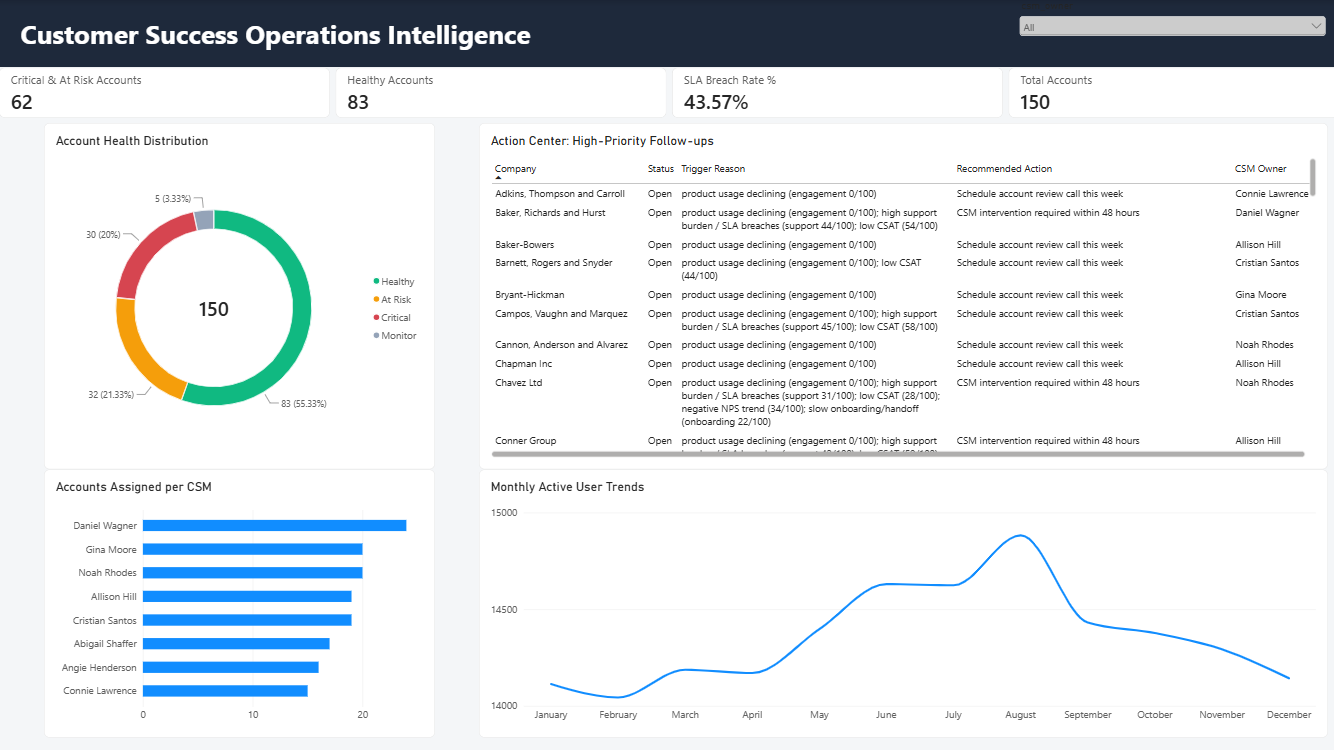

The dashboard page shown, as its layout file describes it:
{"tool":"powerbi","page":{"name":"CS_Dashboard","canvas":[1920,1080],"ordinal":0},"visuals":[{"type":"shape","box":[0,0,1920,96],"z":0},{"type":"textbox","box":[0,24,1920,72],"z":1000},{"type":"cardVisual","fields":{"Data":["_Measures.Critical & At Risk Accounts","_Measures.Healthy Accounts","_Measures.SLA Breach Rate %","_Measures.Total Accounts"]},"box":[0,96,1920,72],"z":2000},{"type":"donutChart","title":"Account Health Distribution","fields":{"Category":["public vw_account_health.health_status"],"Y":["_Measures.Total Accounts"]},"box":[64,176,560,496],"z":3000},{"type":"tableEx","title":"Action Center: High-Priority Follow-ups","fields":{"Values":["public vw_action_center.company_name","public vw_action_center.status","public vw_action_center.reason","public vw_action_center.recommended_action","public vw_action_center.owner"]},"box":[688,176,1216,496],"z":3001},{"type":"clusteredBarChart","title":"Accounts Assigned per CSM","fields":{"Category":["public vw_csm_performance.csm_owner"],"Y":["Sum(public vw_csm_performance.total_accounts)"]},"box":[64,672,560,384],"z":3002},{"type":"lineChart","title":"Monthly Active User Trends","fields":{"Category":["public vw_usage_trend.usage_date.Variation.Date Hierarchy.Month"],"Y":["Sum(public vw_usage_trend.active_users)"]},"box":[688,672,1216,384],"z":3003},{"type":"slicer","fields":{"Values":["Dim_CSM.csm_owner"]},"box":[1456,0,448,256],"z":3004}]}

Visuals, with their boxes in screenshot pixels (x1, y1, x2, y2), scaled from the page's 1920x1080 canvas onto the 1334x750 screenshot:
shape: (0,0,1333,67)
textbox: (0,17,1333,67)
cardVisual - _Measures.Critical & At Risk Accounts x _Measures.Healthy Accounts: (0,67,1333,117)
"Account Health Distribution" donutChart: (44,122,434,467)
"Action Center: High-Priority Follow-ups" tableEx: (478,122,1323,467)
"Accounts Assigned per CSM" clusteredBarChart: (44,467,434,733)
"Monthly Active User Trends" lineChart: (478,467,1323,733)
slicer - Dim_CSM.csm_owner: (1012,0,1323,178)
